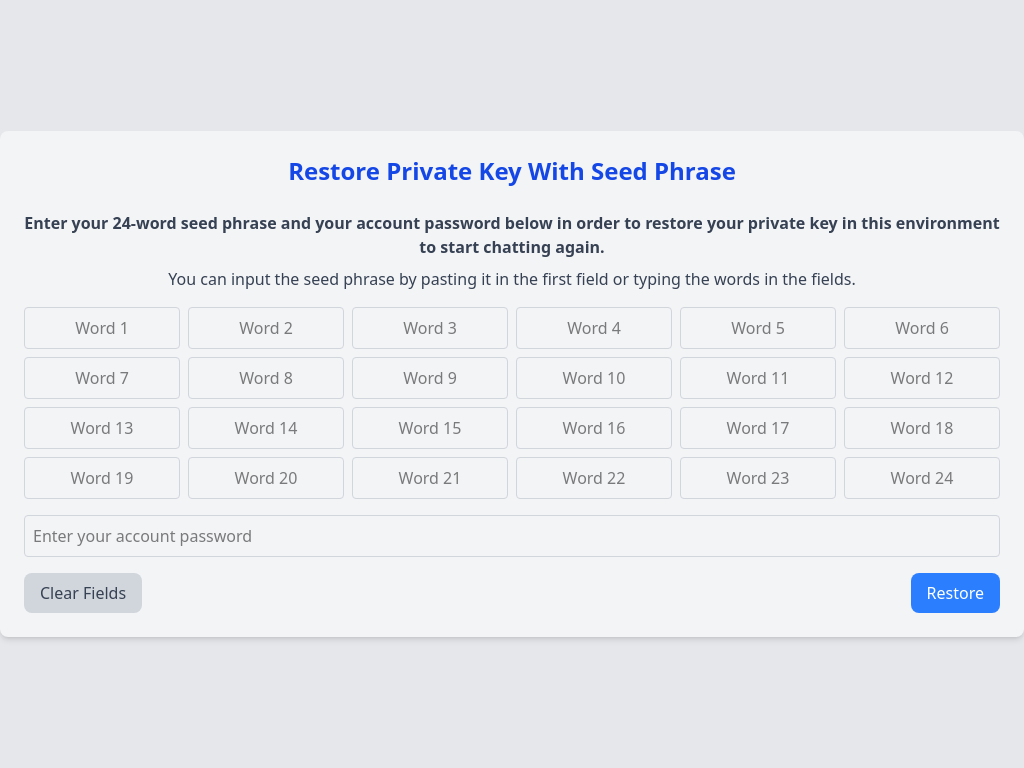
Scenario: RestoreWithSeedPhrase.tsx tests › should clear the fields when Clear Fields button is clicked
In the password field with placeholder "Enter your account password": point(512, 536) x1=24 y1=515 x2=1000 y2=557, type "testpassword"
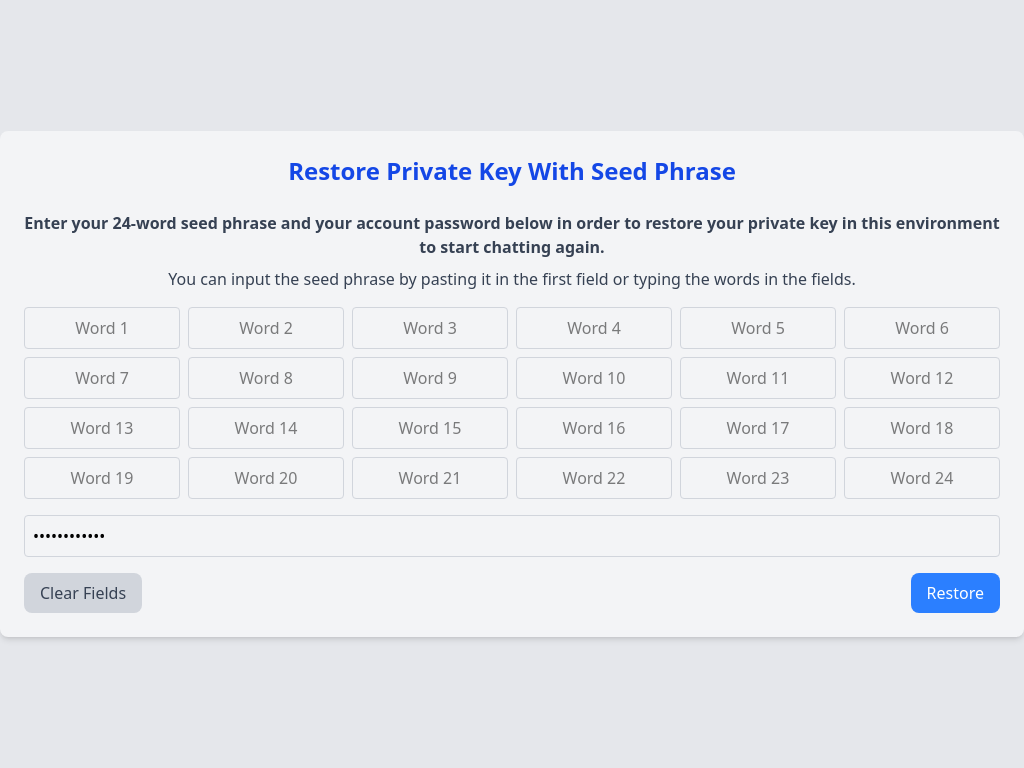
Click the button "Clear Fields": point(83, 593) x1=24 y1=573 x2=142 y2=613
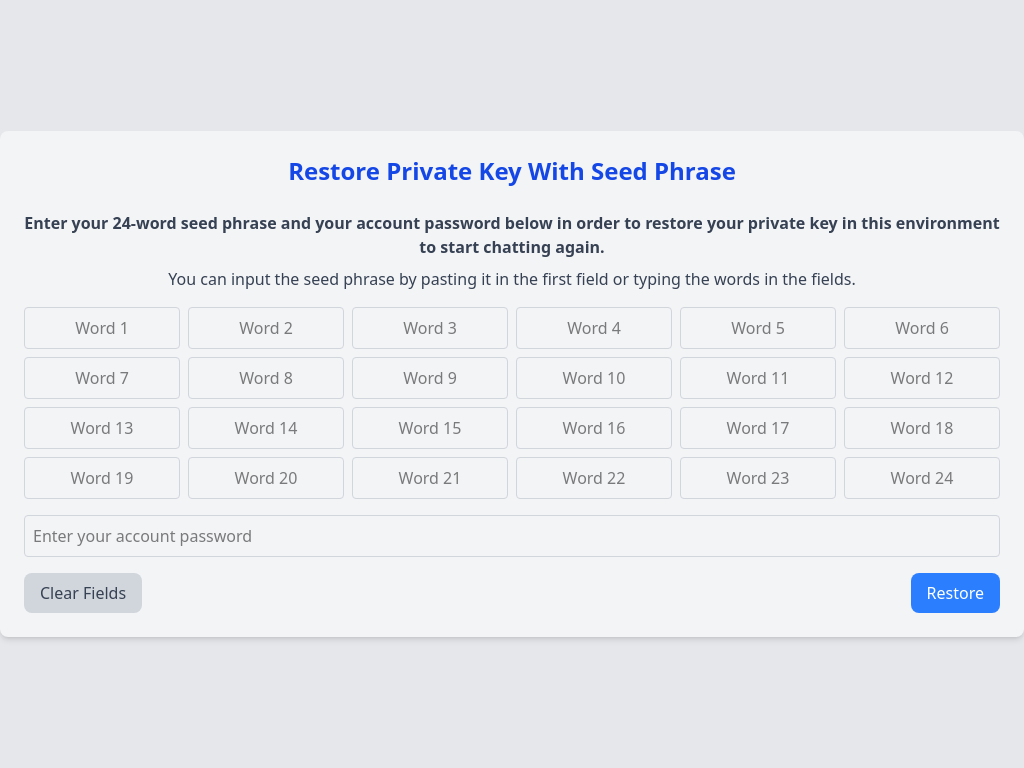
Check: the password field with placeholder "Enter your account password" is empty, box x1=24 y1=515 x2=1000 y2=557
